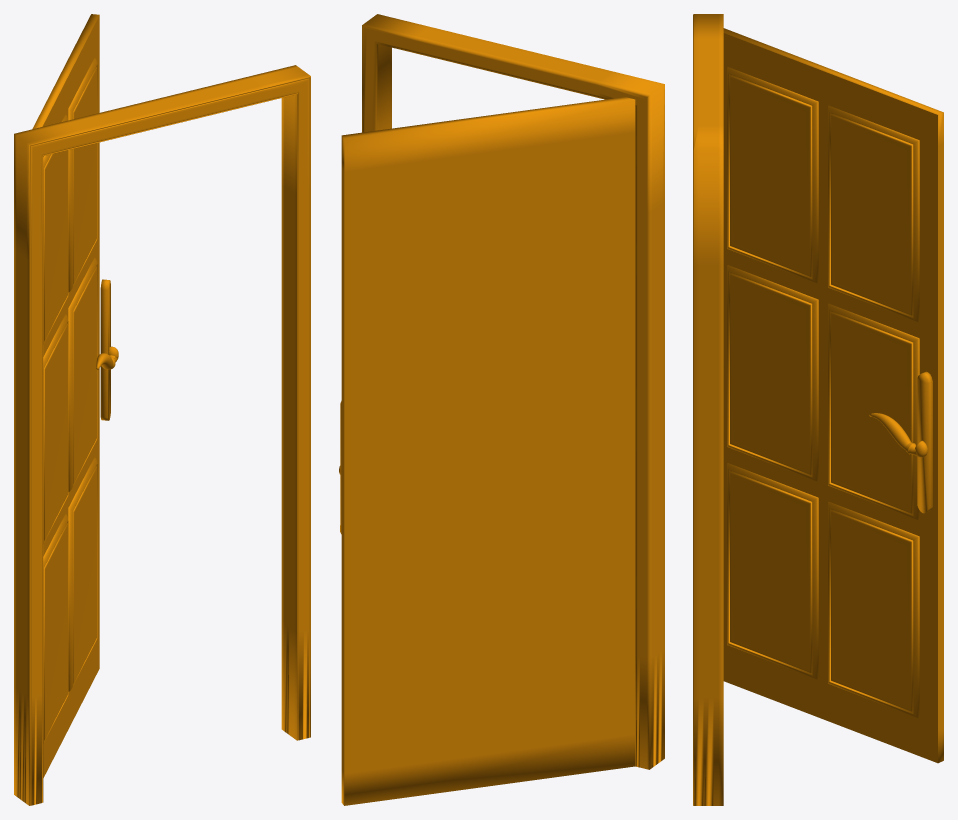
File: 29_dorja.fbx
The picture shows the model from 3 angles, left to right: view 1: azimuth 30°, elevation 25°; view 2: azimuth 150°, elevation 25°; view 3: azimuth 270°, elevation 25°; orthographic projection. The views are drawn at different scales.
Visible parts, largest first — view 1: Doroja_Border, Doroja; view 2: Doroja, Doroja_Border; view 3: Doroja, Doroja_Border.
Boxes of the visible parts, x1,y1,x2,y2 form: Doroja_Border: [14, 65, 310, 805]; Doroja: [32, 14, 118, 777]; Doroja: [339, 97, 635, 805]; Doroja_Border: [362, 14, 664, 769]; Doroja: [723, 28, 943, 763]; Doroja_Border: [693, 14, 723, 805].
Bounding box in the file's own units: 10.9 × 24.44 × 8.47.
